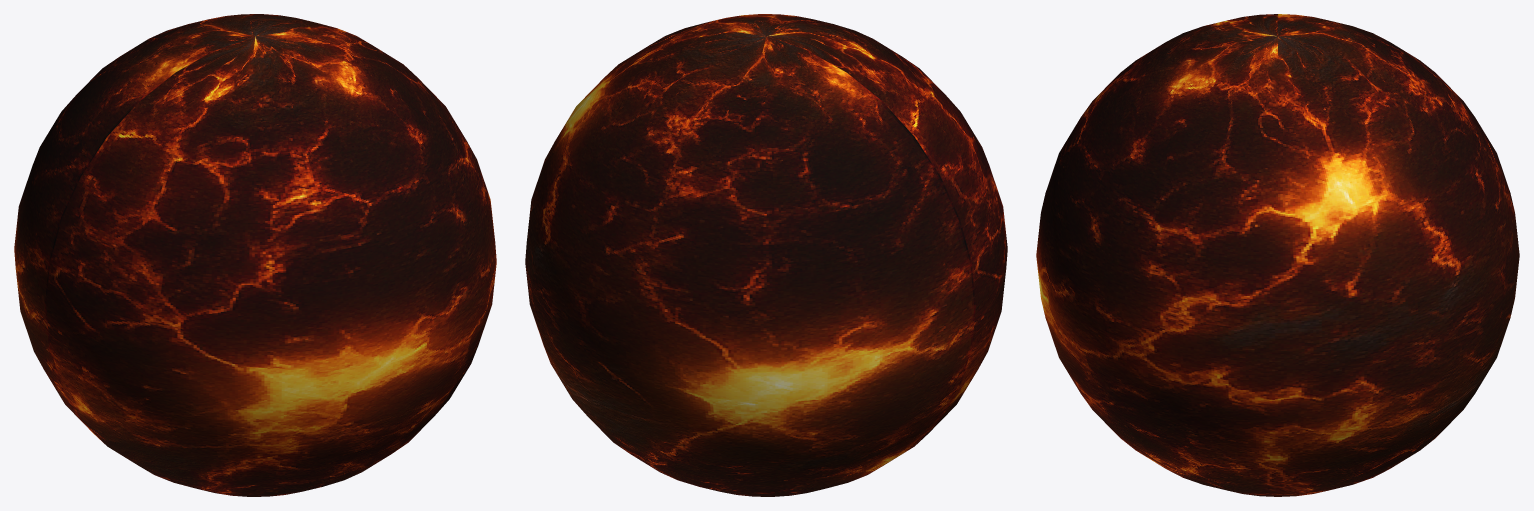
Rendered from lava1.glb.
3 views of the same model, side by side, from view 1: azimuth 30°, elevation 25°; view 2: azimuth 150°, elevation 25°; view 3: azimuth 270°, elevation 25° (orthographic).
Parts seen in each view (by area): view 1: lava1; view 2: lava1; view 3: lava1.
Part boxes in pixels (left/top/right/bottom): lava1: left=14, top=14, right=496, bottom=496; lava1: left=525, top=14, right=1007, bottom=496; lava1: left=1036, top=14, right=1519, bottom=496.
Size of the model in its own units: 2 by 2 by 2.
Materials: 1 (1 with a texture image).
